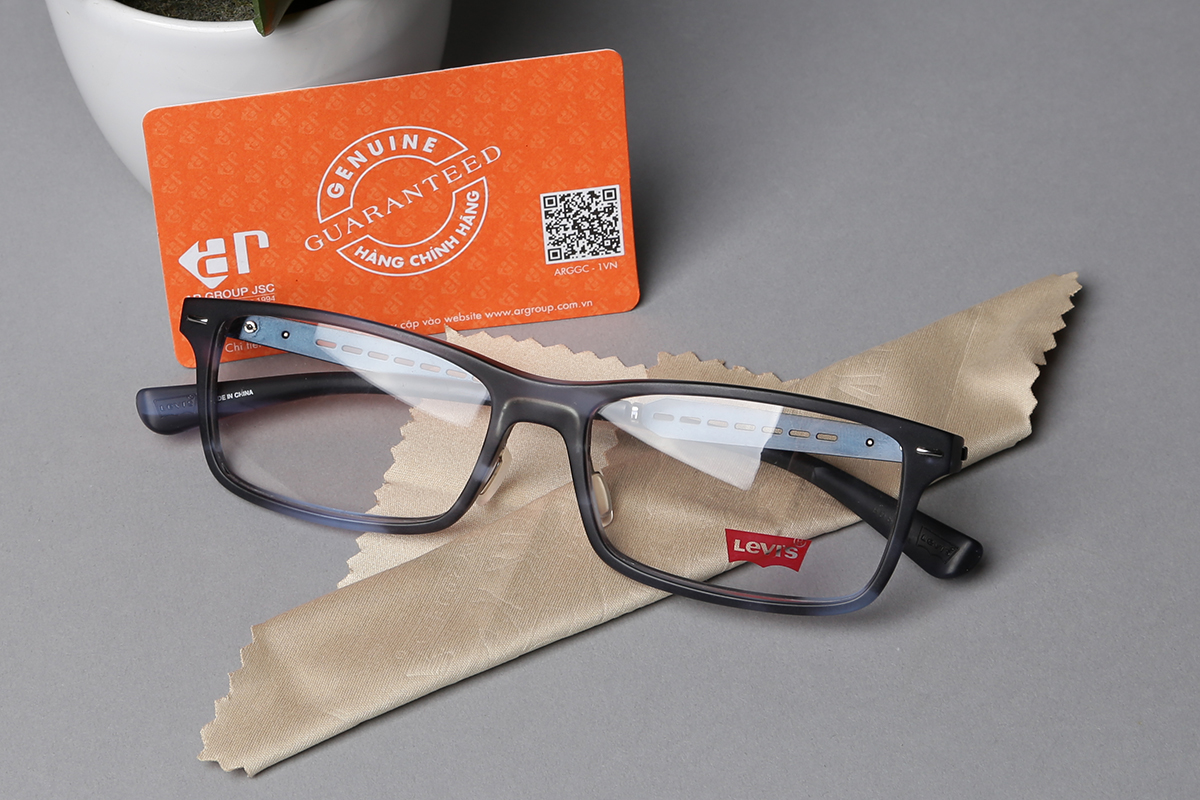Levi's: (717, 514, 821, 581)
